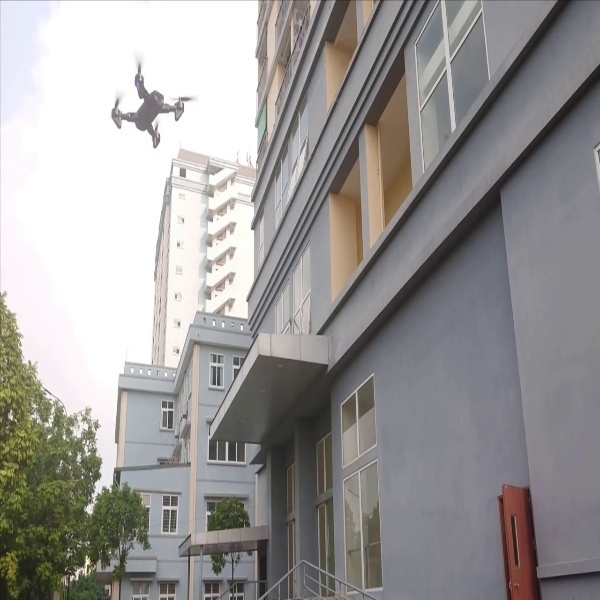drone: (102, 45, 196, 151)
